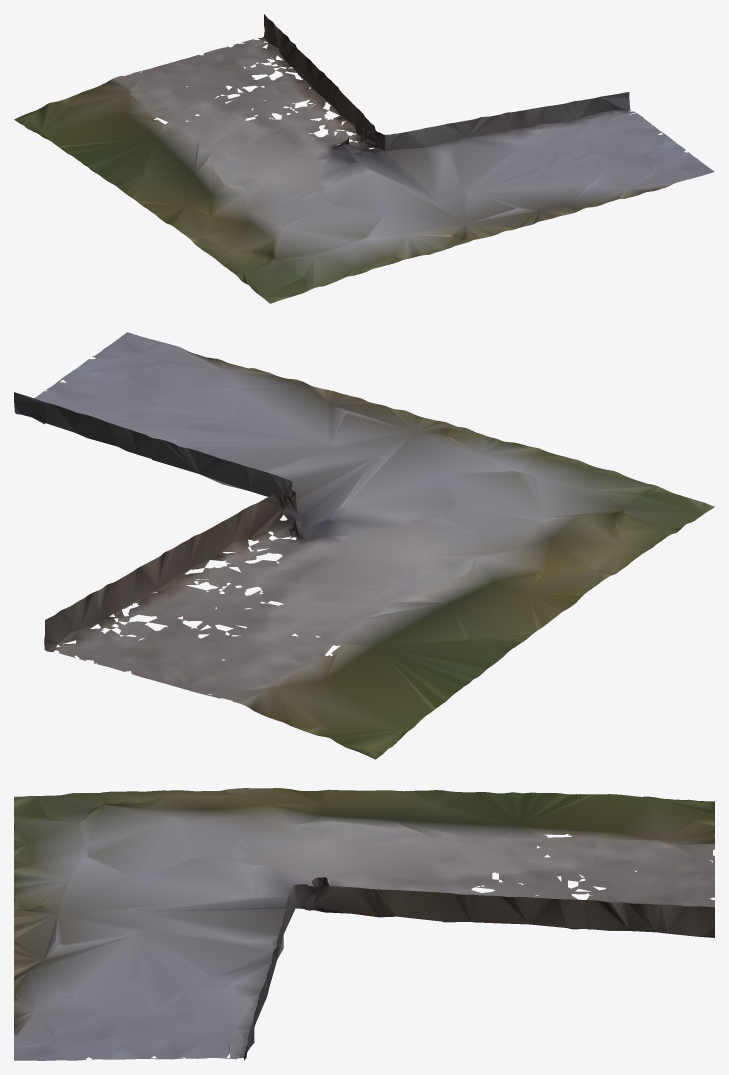
File: coarse.glb
The picture shows the model from 3 angles, top to bottom: view 1: azimuth 30°, elevation 25°; view 2: azimuth 150°, elevation 25°; view 3: azimuth 270°, elevation 25°; orthographic projection. The views are drawn at different scales.
Size of the model in its own units: 3.6 by 0.345 by 3.6.
